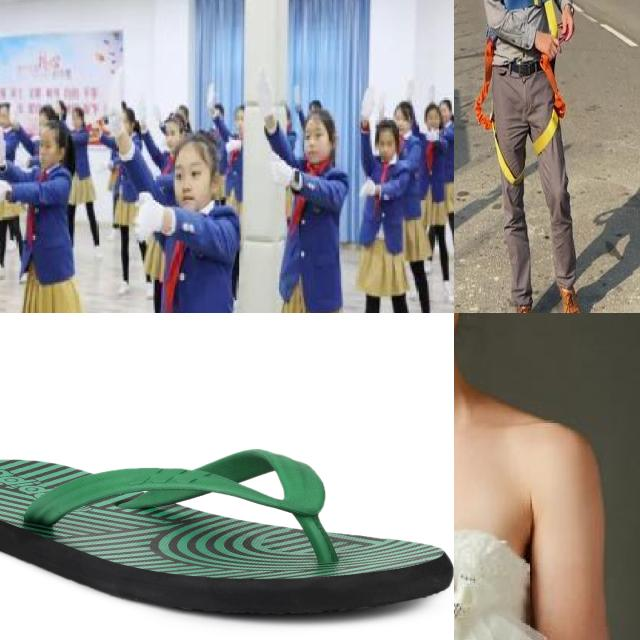Harness: (521, 55, 566, 156), (475, 32, 497, 130), (503, 0, 559, 38), (495, 134, 524, 186)
Sandals: (0, 446, 454, 618)
face_nomask: (172, 159, 212, 208), (301, 121, 333, 162), (36, 134, 58, 170), (375, 134, 396, 156)
hand_glove: (127, 185, 161, 247), (103, 77, 124, 133), (252, 67, 276, 113), (266, 148, 290, 185), (358, 82, 375, 121), (355, 174, 376, 202), (204, 77, 218, 116), (135, 93, 147, 128), (401, 72, 417, 98), (373, 87, 386, 114), (289, 81, 301, 108), (150, 98, 163, 122), (224, 132, 237, 154), (0, 125, 7, 160), (424, 125, 437, 142), (426, 76, 435, 99), (0, 177, 5, 203)
head_nohelmet: (163, 132, 215, 158), (372, 114, 398, 138), (390, 99, 416, 119), (38, 103, 64, 121), (159, 113, 186, 130), (38, 124, 66, 139), (312, 108, 332, 128), (420, 100, 440, 118), (438, 99, 452, 113)
person: (454, 313, 640, 640), (99, 70, 248, 313), (250, 65, 371, 313), (339, 77, 425, 313), (0, 119, 101, 313), (426, 104, 452, 302)
shoes: (438, 283, 454, 312), (113, 275, 132, 298), (0, 262, 11, 287)
